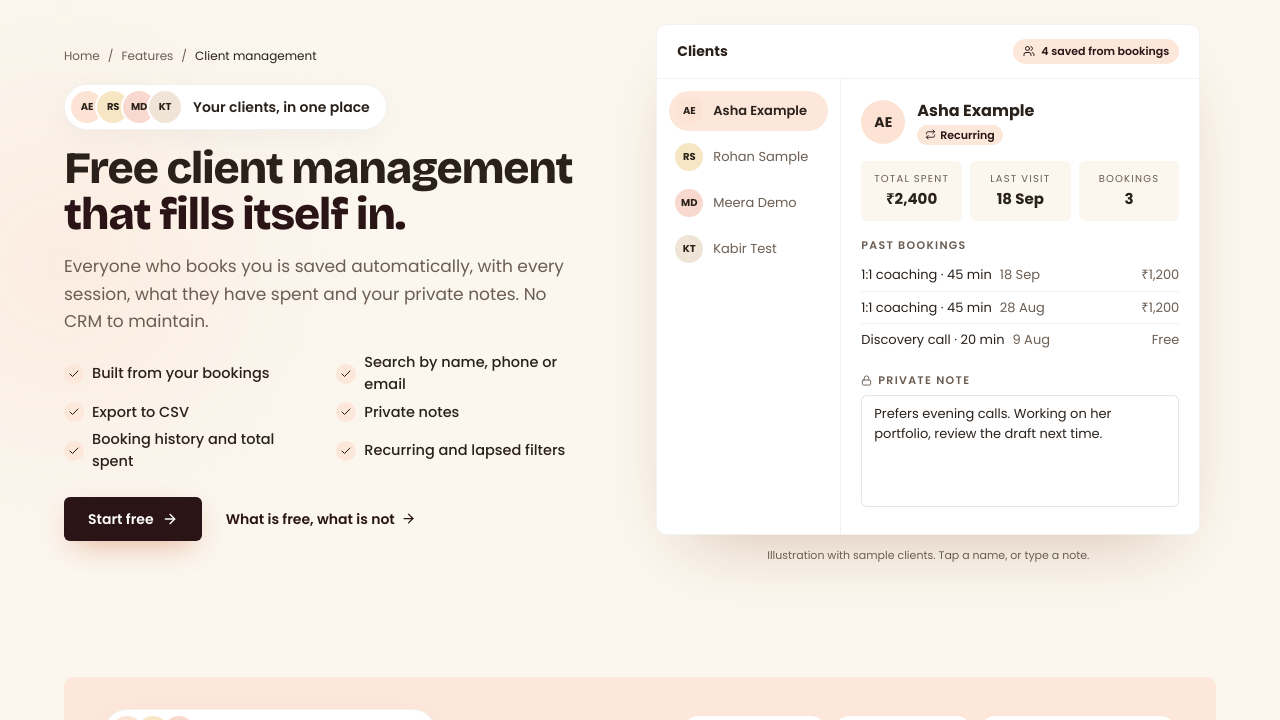
Scenario: Client management feature page › opens the clicked client card in the hero demo
What coordinates should you click on to do the following:
click the button "KT Kabir Test"
I would click on:
 (749, 248)
Its box is [669,228,828,268].
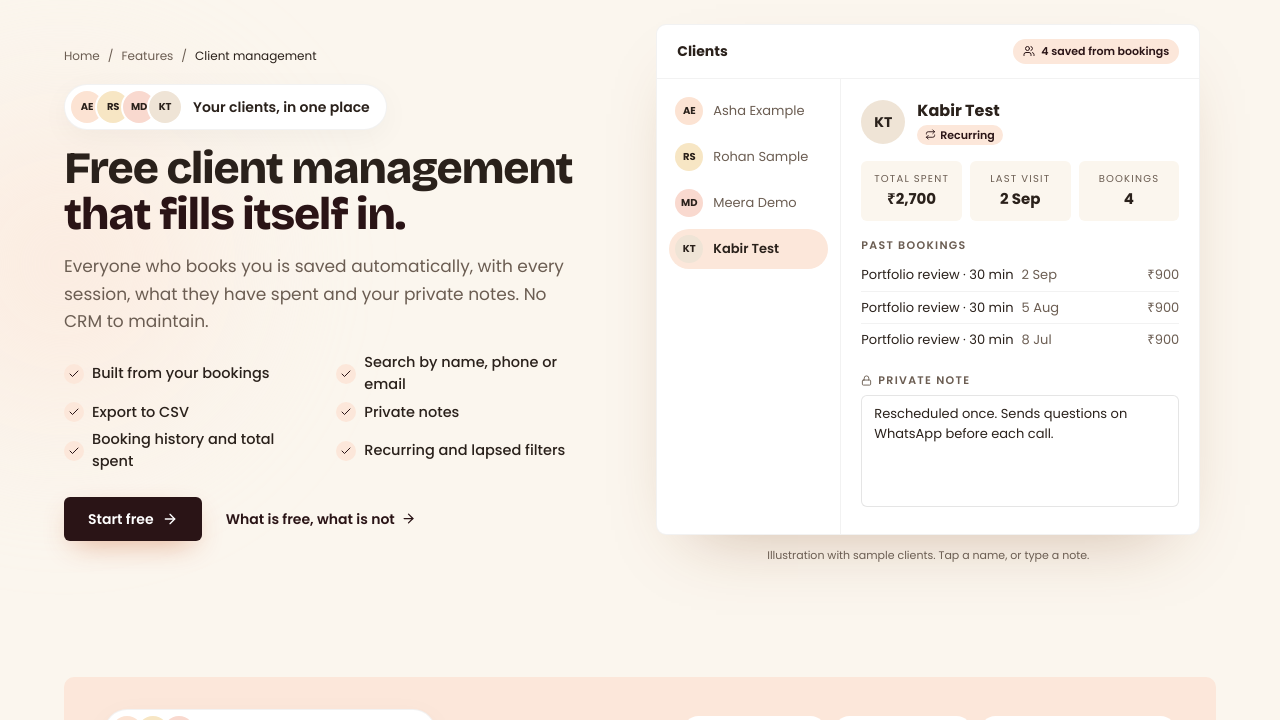
Now the text with test id "demo-client-name" reads "Kabir Test", box [917,98,1000,122]
